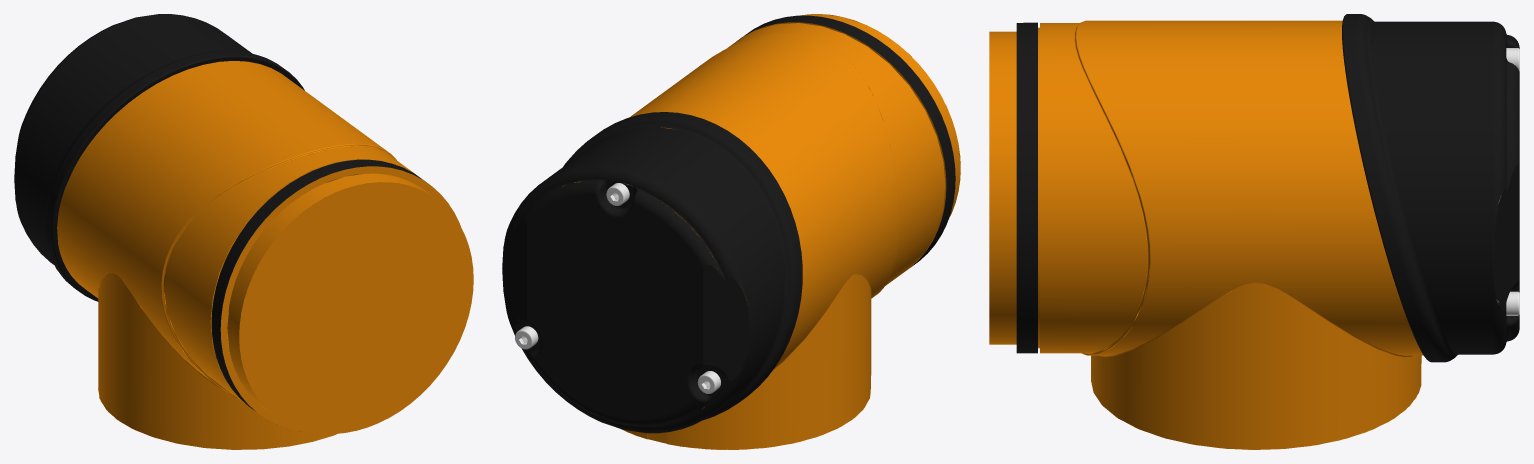
The model's file is wrist2_Link.DAE.
The picture shows the model from 3 angles, left to right: view 1: azimuth 30°, elevation 25°; view 2: azimuth 150°, elevation 25°; view 3: azimuth 270°, elevation 25°; orthographic projection. The views are drawn at different scales.
Parts seen in each view (by area): view 1: NONE-DC_Shell_ncl1_4, NONE-DC_Shell_ncl1_5, NONE-DC_Shell_ncl1_6, NONE-DC_Shell_ncl1_3; view 2: NONE-DC_Shell_ncl1_6, NONE-DC_Shell_ncl1_4, NONE-DC_Shell_ncl1_3, NONE-DC_Shell_ncl1_5; view 3: NONE-DC_Shell_ncl1_4, NONE-DC_Shell_ncl1_6, NONE-DC_Shell_ncl1_5, NONE-DC_Shell_ncl1_3.
Part boxes in pixels (x1,y1,x2,y2): NONE-DC_Shell_ncl1_4: (57, 61, 417, 449); NONE-DC_Shell_ncl1_5: (220, 166, 473, 433); NONE-DC_Shell_ncl1_6: (14, 14, 304, 301); NONE-DC_Shell_ncl1_3: (211, 159, 425, 431); NONE-DC_Shell_ncl1_6: (502, 112, 802, 433); NONE-DC_Shell_ncl1_4: (562, 22, 946, 449); NONE-DC_Shell_ncl1_3: (736, 15, 955, 266); NONE-DC_Shell_ncl1_5: (742, 14, 960, 274); NONE-DC_Shell_ncl1_4: (1038, 20, 1423, 449); NONE-DC_Shell_ncl1_6: (1342, 14, 1519, 362); NONE-DC_Shell_ncl1_5: (989, 31, 1016, 344); NONE-DC_Shell_ncl1_3: (1016, 22, 1037, 353).
Bounding box in the file's own units: 79 × 120 × 87.5.
